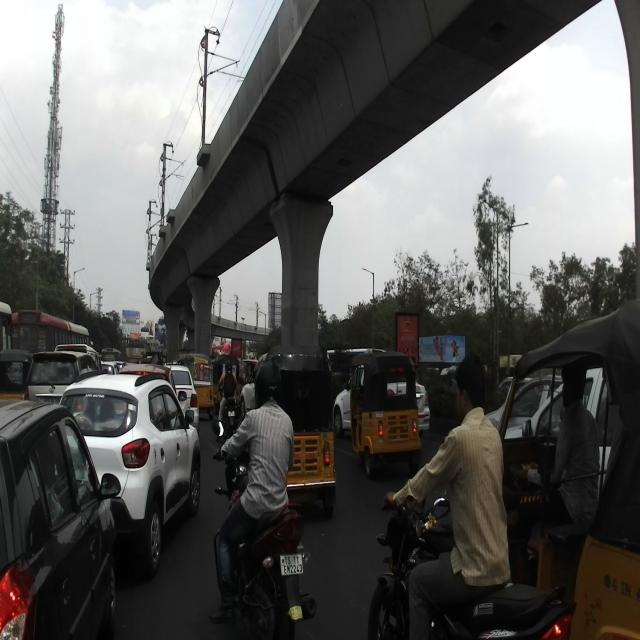autorickshaw: (497, 300, 640, 640), (254, 343, 337, 515), (343, 349, 421, 479)
car: (60, 366, 201, 577), (0, 398, 121, 640), (331, 353, 433, 449), (24, 351, 101, 403)
motorcycle: (365, 494, 575, 638), (210, 418, 320, 639)
